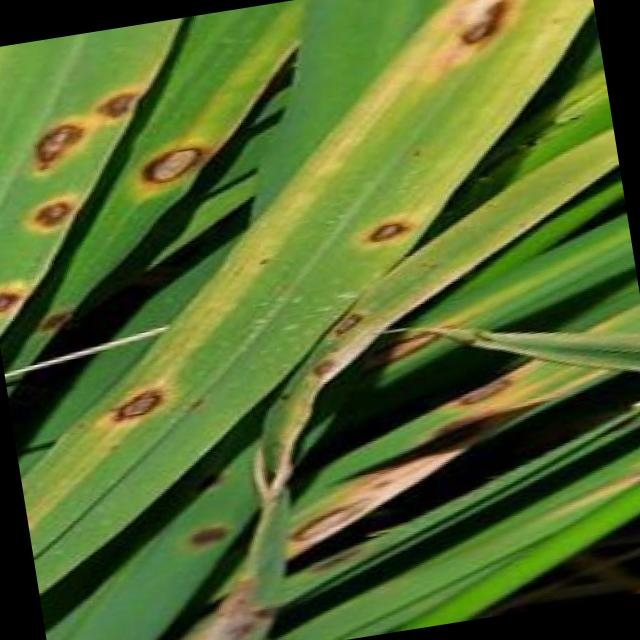Rice_Brownspot: (385, 0, 562, 74), (103, 118, 224, 220), (6, 98, 105, 188), (272, 484, 388, 551), (3, 171, 94, 254), (334, 191, 434, 265), (90, 366, 184, 439), (72, 64, 158, 138), (441, 360, 526, 423), (160, 508, 246, 560), (0, 260, 43, 341), (313, 292, 377, 344), (292, 342, 352, 391), (245, 250, 278, 276), (182, 388, 213, 414), (268, 386, 300, 409), (65, 414, 92, 438), (103, 435, 130, 458), (404, 138, 426, 162)
